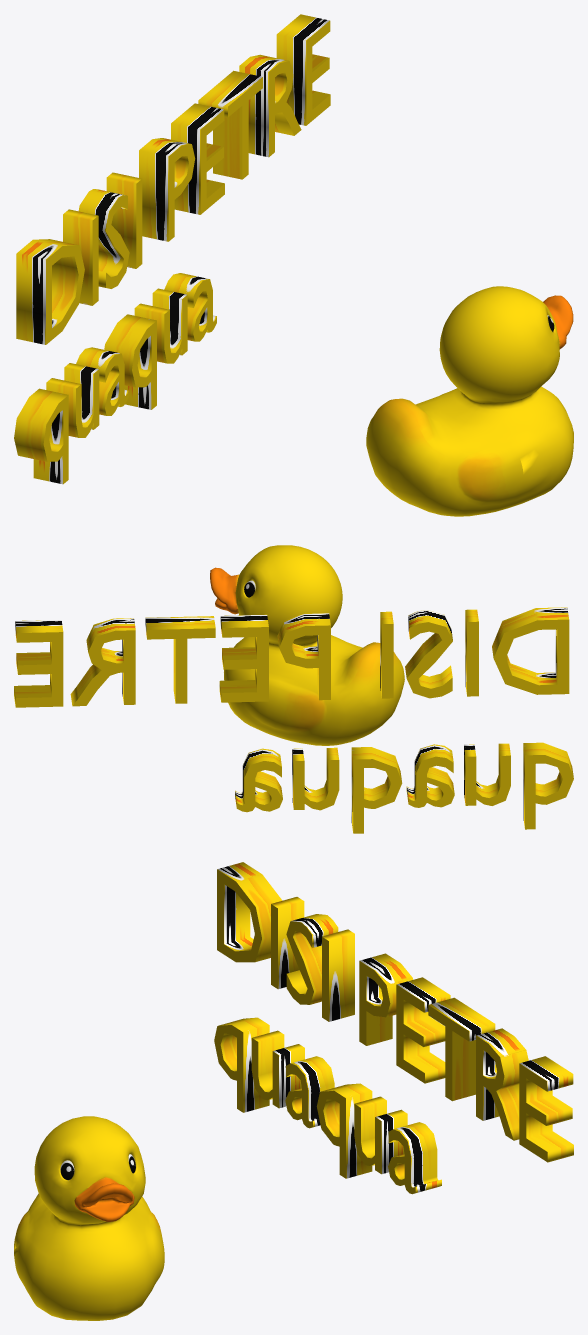
3 renders of one model, top to bottom at view 1: azimuth 30°, elevation 25°; view 2: azimuth 150°, elevation 25°; view 3: azimuth 270°, elevation 25°, orthographic. The views are drawn at different scales.
Visible parts, largest first — view 1: Text, LOD3spShape; view 2: Text, LOD3spShape; view 3: Text, LOD3spShape.
Part boxes in pixels (bbox=[...]): Text: bbox=[14, 14, 330, 484]; LOD3spShape: bbox=[366, 286, 573, 516]; Text: bbox=[14, 607, 573, 833]; LOD3spShape: bbox=[210, 545, 404, 745]; Text: bbox=[214, 862, 573, 1194]; LOD3spShape: bbox=[14, 1116, 164, 1320].
Bounding box in the file's own units: 4.04 × 2.17 × 4.28.
1 material, 1 textured.
